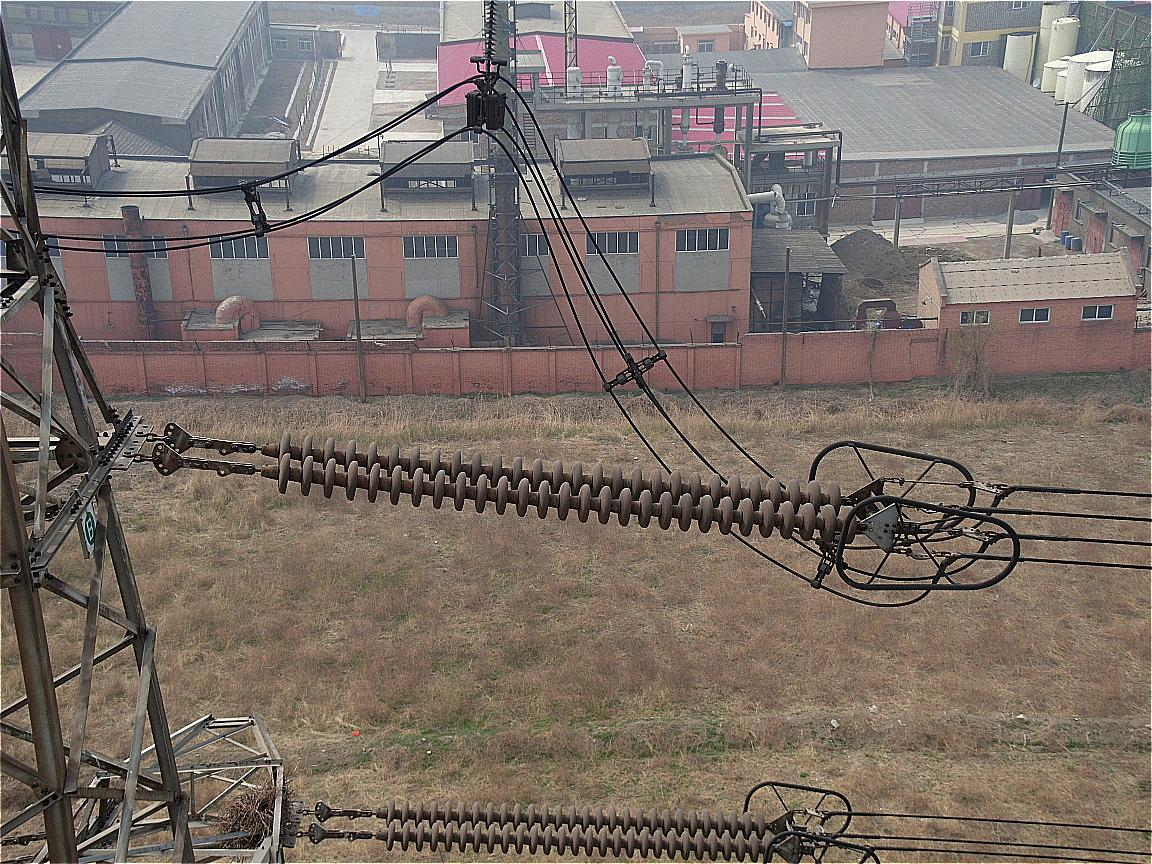insultor1: (276, 434, 845, 541), (385, 798, 778, 861)
